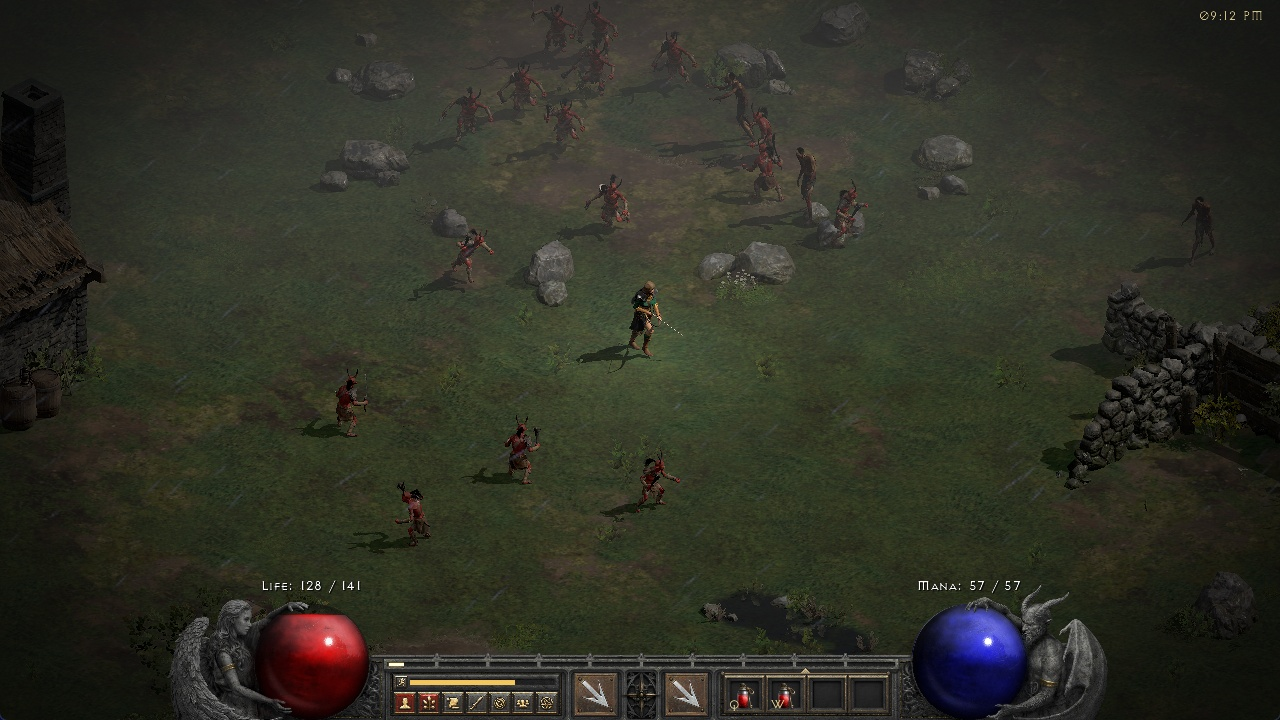fallen: (389, 482, 441, 546), (583, 175, 635, 234), (502, 417, 544, 484), (540, 98, 593, 148), (439, 92, 495, 139), (653, 32, 702, 85), (333, 369, 370, 439), (635, 452, 680, 508), (832, 179, 870, 241), (451, 228, 491, 285), (528, 7, 574, 52), (746, 149, 785, 202), (574, 9, 622, 49), (499, 66, 541, 109), (579, 48, 616, 87), (746, 109, 780, 146)
